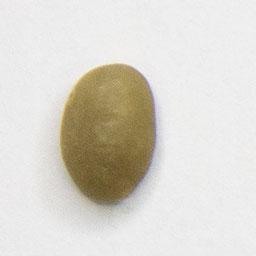premium: (58, 60, 160, 207)
